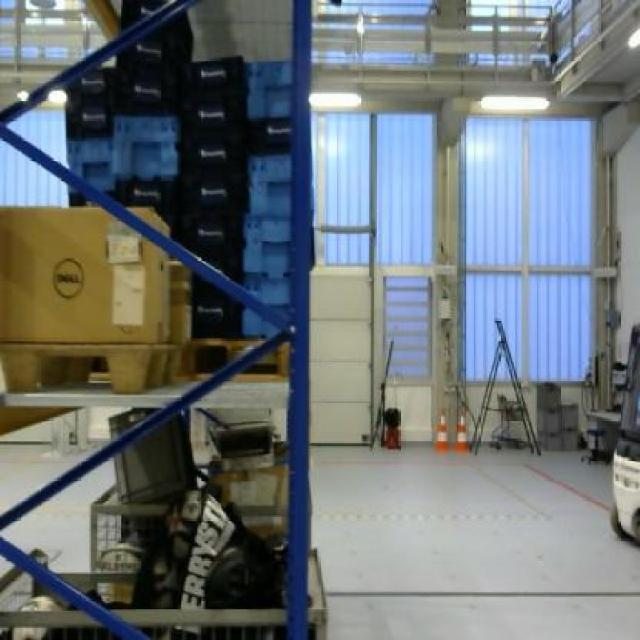box: (0, 200, 171, 340)
